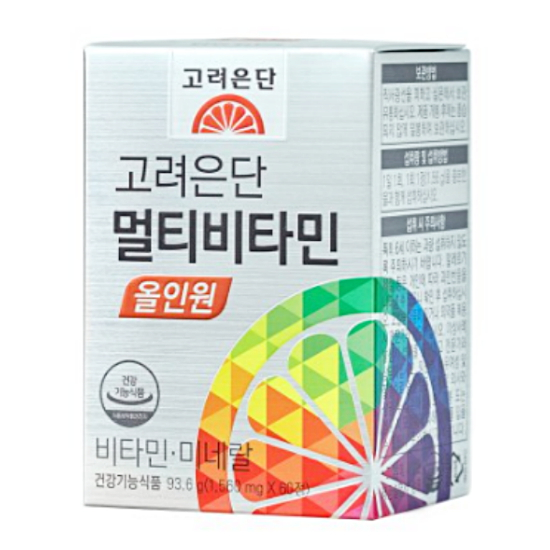supplement_label: (27, 32, 520, 525)
